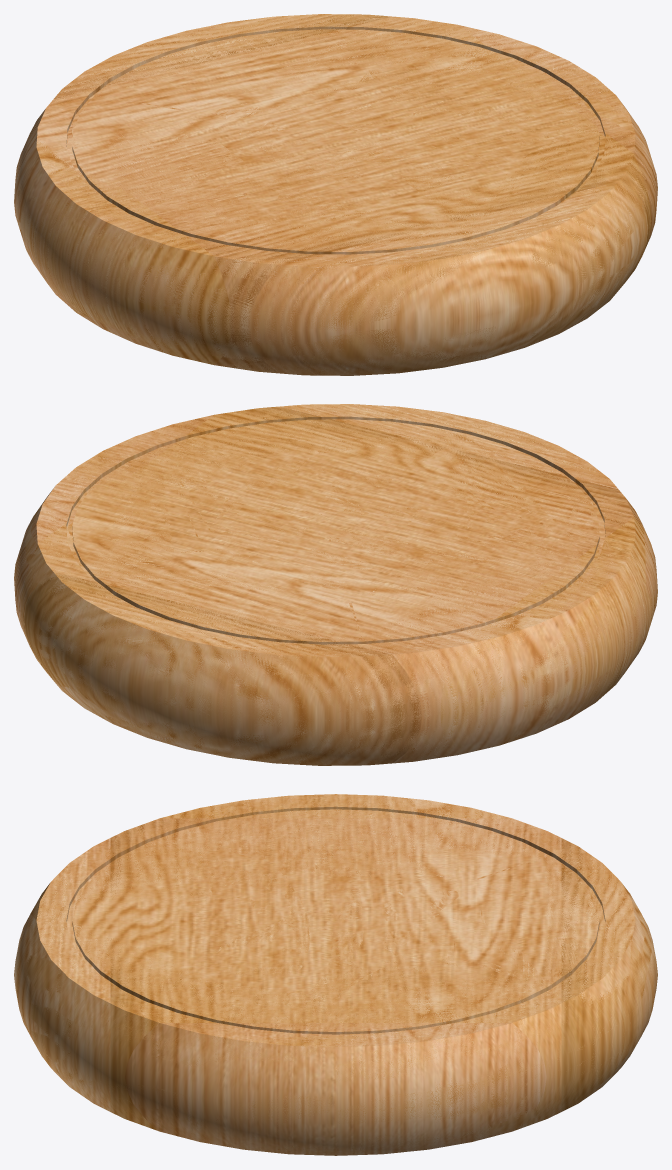
The model's file is chess.fbx.
The picture shows the model from 3 angles, top to bottom: view 1: azimuth 30°, elevation 25°; view 2: azimuth 150°, elevation 25°; view 3: azimuth 270°, elevation 25°; orthographic projection.
Visible parts, largest first — view 1: 3DXY_geometry_001, 3DXY_geometry_002, 3DXY_geometry_003, 3DXY_geometry_004, 3DXY_geometry_006, 3DXY_geometry_008, 3DXY_geometry_005, 3DXY_geometry_007, 3DXY_geometry_009, 3DXY_geometry_010; view 2: 3DXY_geometry_001, 3DXY_geometry_002, 3DXY_geometry_004, 3DXY_geometry_003, 3DXY_geometry_006, 3DXY_geometry_007, 3DXY_geometry_008, 3DXY_geometry_005, 3DXY_geometry_009, 3DXY_geometry_010; view 3: 3DXY_geometry_001, 3DXY_geometry_002, 3DXY_geometry_004, 3DXY_geometry_006, 3DXY_geometry_003, 3DXY_geometry_008, 3DXY_geometry_007, 3DXY_geometry_009, 3DXY_geometry_005, 3DXY_geometry_010.
Part boxes in pixels (bbox=[...]): 3DXY_geometry_001: bbox=[17, 14, 657, 375]; 3DXY_geometry_002: bbox=[14, 14, 651, 375]; 3DXY_geometry_003: bbox=[14, 23, 628, 364]; 3DXY_geometry_004: bbox=[14, 14, 628, 365]; 3DXY_geometry_006: bbox=[24, 14, 592, 263]; 3DXY_geometry_008: bbox=[15, 29, 599, 251]; 3DXY_geometry_005: bbox=[96, 30, 591, 236]; 3DXY_geometry_007: bbox=[16, 18, 585, 236]; 3DXY_geometry_009: bbox=[79, 30, 546, 250]; 3DXY_geometry_010: bbox=[27, 20, 586, 283]; 3DXY_geometry_001: bbox=[14, 404, 657, 765]; 3DXY_geometry_002: bbox=[15, 404, 657, 765]; 3DXY_geometry_004: bbox=[31, 419, 610, 764]; 3DXY_geometry_003: bbox=[29, 421, 650, 762]; 3DXY_geometry_006: bbox=[25, 435, 647, 765]; 3DXY_geometry_007: bbox=[15, 434, 535, 760]; 3DXY_geometry_008: bbox=[37, 419, 599, 754]; 3DXY_geometry_005: bbox=[74, 434, 579, 636]; 3DXY_geometry_009: bbox=[83, 421, 591, 632]; 3DXY_geometry_010: bbox=[97, 434, 585, 730]; 3DXY_geometry_001: bbox=[14, 794, 652, 1155]; 3DXY_geometry_002: bbox=[21, 794, 648, 1155]; 3DXY_geometry_004: bbox=[112, 796, 657, 1152]; 3DXY_geometry_006: bbox=[73, 817, 645, 1141]; 3DXY_geometry_003: bbox=[24, 794, 597, 1155]; 3DXY_geometry_008: bbox=[38, 802, 598, 1088]; 3DXY_geometry_007: bbox=[83, 817, 631, 1127]; 3DXY_geometry_009: bbox=[122, 814, 589, 1023]; 3DXY_geometry_005: bbox=[107, 811, 548, 1025]; 3DXY_geometry_010: bbox=[96, 813, 545, 1023].
Size of the model in its own units: 8.46 by 1.57 by 8.46.
